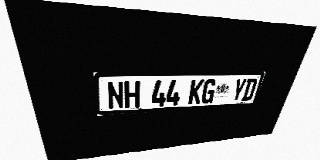4: (165, 80, 182, 106), (151, 80, 167, 107)
D: (241, 78, 258, 101)
G: (200, 79, 217, 104)
H: (124, 81, 140, 108)
K: (188, 79, 204, 104)
N: (107, 81, 124, 110)
Y: (230, 79, 247, 102)
